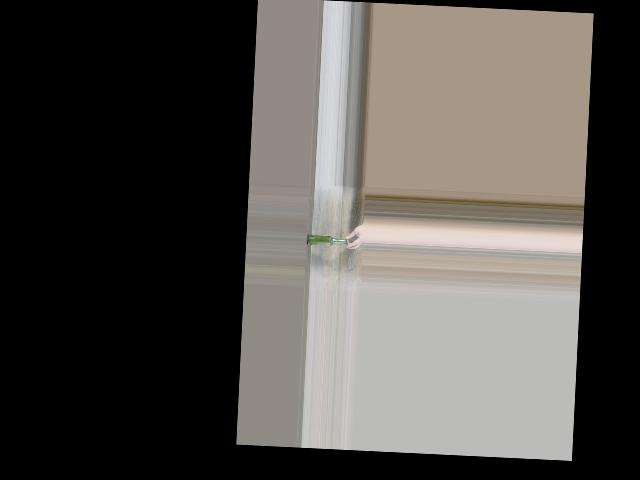beer: (306, 234, 348, 247)
